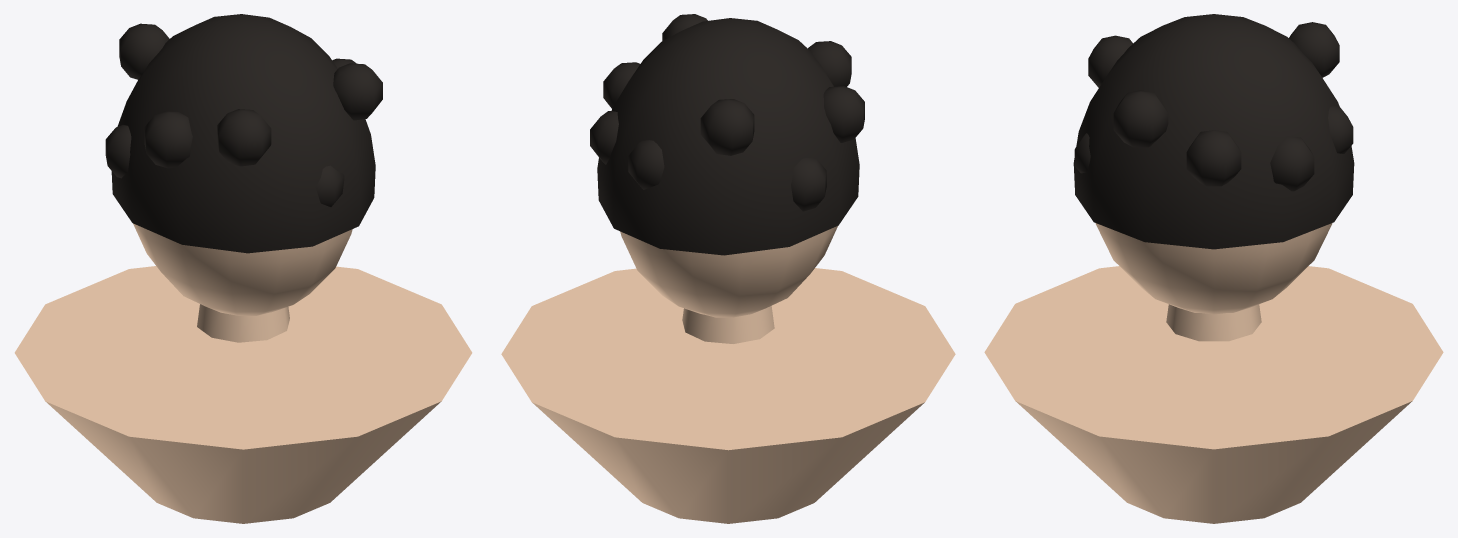
File: raw_003.glb
3 views of the same model, side by side, from view 1: azimuth 30°, elevation 25°; view 2: azimuth 150°, elevation 25°; view 3: azimuth 270°, elevation 25° (orthographic).
Bounding box in the file's own units: 2.02 × 2.22 × 2.02.
